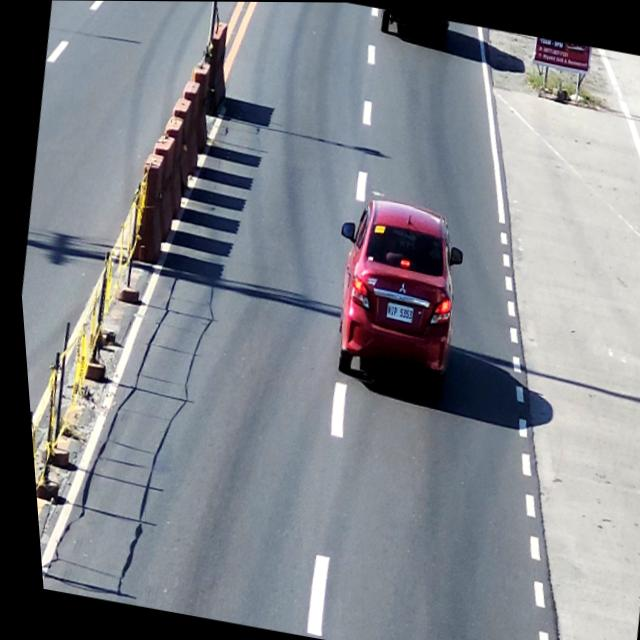Car: (317, 191, 472, 402), (370, 7, 452, 52)
License-Plate: (379, 297, 411, 327)
